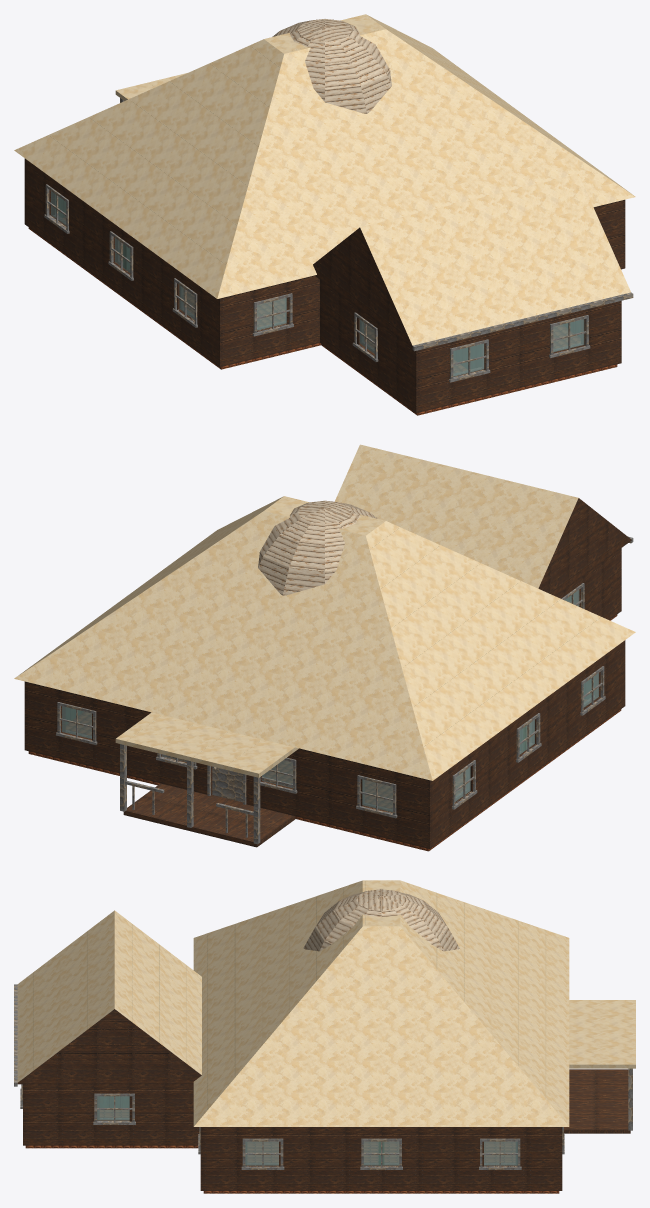
Rendered from alder-reading-room.gltf.
3 renders of one model, top to bottom at view 1: azimuth 30°, elevation 25°; view 2: azimuth 150°, elevation 25°; view 3: azimuth 270°, elevation 25°, orthographic. The views are drawn at different scales.
Parts seen in each view (by area): view 1: roof-L0-green-metal, exterior-L0-stone, roof-L0-copper, trim-L0-dark-wood, roof-L0-stone, glazing-L0-glass, floor-L0-floor, roof-L0-dark-wood; view 2: roof-L0-green-metal, exterior-L0-stone, roof-L0-copper, porch-L0-green-metal, porch-L0-stone, trim-L0-dark-wood, roof-L0-stone, glazing-L0-glass, floor-L0-floor, porch-L0-dark-wood, door-leaf-L0-dark-wood; view 3: roof-L0-green-metal, exterior-L0-stone, roof-L0-stone, porch-L0-green-metal, roof-L0-copper, porch-L0-stone, floor-L0-floor, glazing-L0-glass, trim-L0-dark-wood.
Part boxes in pixels (x1,y1,x2,y2): roof-L0-green-metal: (14,14,635,345); exterior-L0-stone: (24,158,625,413); roof-L0-copper: (272,19,391,113); trim-L0-dark-wood: (44,184,590,382); roof-L0-stone: (313,227,412,346); glazing-L0-glass: (51,191,584,376); floor-L0-floor: (28,217,617,415); roof-L0-dark-wood: (412,292,633,351); roof-L0-green-metal: (14,444,635,780); exterior-L0-stone: (24,548,625,848); roof-L0-copper: (258,500,377,595); porch-L0-green-metal: (115,712,298,777); porch-L0-stone: (123,783,295,847); trim-L0-dark-wood: (56,583,605,818); roof-L0-stone: (538,498,631,596); glazing-L0-glass: (62,590,598,812); floor-L0-floor: (28,601,621,851); porch-L0-dark-wood: (120,744,292,844); door-leaf-L0-dark-wood: (212,766,242,802); roof-L0-green-metal: (17,880,569,1126); exterior-L0-stone: (23,1084,562,1190); roof-L0-stone: (16,1009,201,1084); porch-L0-green-metal: (569,1000,635,1068); roof-L0-copper: (303,889,459,951); porch-L0-stone: (564,1069,630,1133); floor-L0-floor: (25,1110,559,1193); glazing-L0-glass: (97,1096,517,1165); trim-L0-dark-wood: (20,1084,564,1169).
Size of the model in its own units: 12.56 by 6.43 by 17.48.
8 materials, 7 textured.
